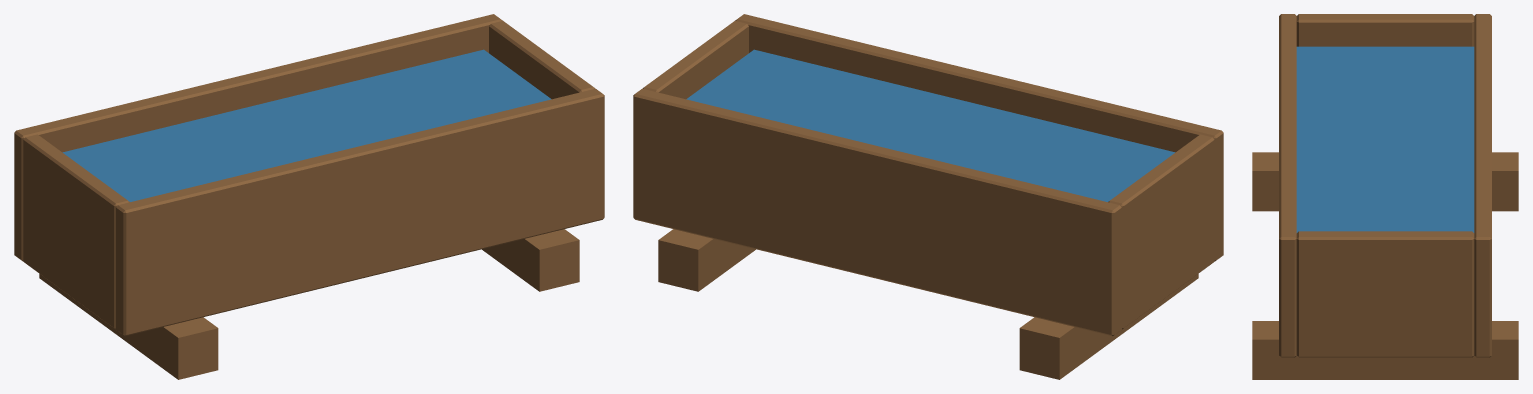
File: Prop_Lab_HornbackTrough_Wood_LOD1.glb
3 renders of one model, left to right at view 1: azimuth 30°, elevation 25°; view 2: azimuth 150°, elevation 25°; view 3: azimuth 270°, elevation 25°, orthographic. The views are drawn at different scales.
Visible parts, largest first — view 1: Prop_Lab_HornbackTrough_Wood, Prop_Lab_HornbackTrough_Wood_Water; view 2: Prop_Lab_HornbackTrough_Wood, Prop_Lab_HornbackTrough_Wood_Water; view 3: Prop_Lab_HornbackTrough_Wood, Prop_Lab_HornbackTrough_Wood_Water.
Boxes of the visible parts, <box> form: Prop_Lab_HornbackTrough_Wood: <box>14,14,604,379</box>; Prop_Lab_HornbackTrough_Wood_Water: <box>62,49,551,201</box>; Prop_Lab_HornbackTrough_Wood: <box>633,14,1223,379</box>; Prop_Lab_HornbackTrough_Wood_Water: <box>686,49,1175,201</box>; Prop_Lab_HornbackTrough_Wood: <box>1252,14,1518,379</box>; Prop_Lab_HornbackTrough_Wood_Water: <box>1296,46,1474,232</box>.
Bounding box in the file's own units: 1.2 × 0.4 × 0.6.
